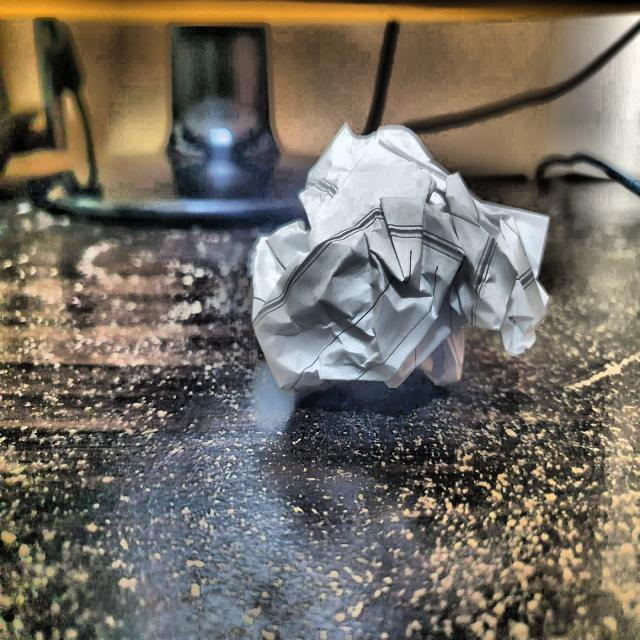Paper: (248, 123, 552, 403)
